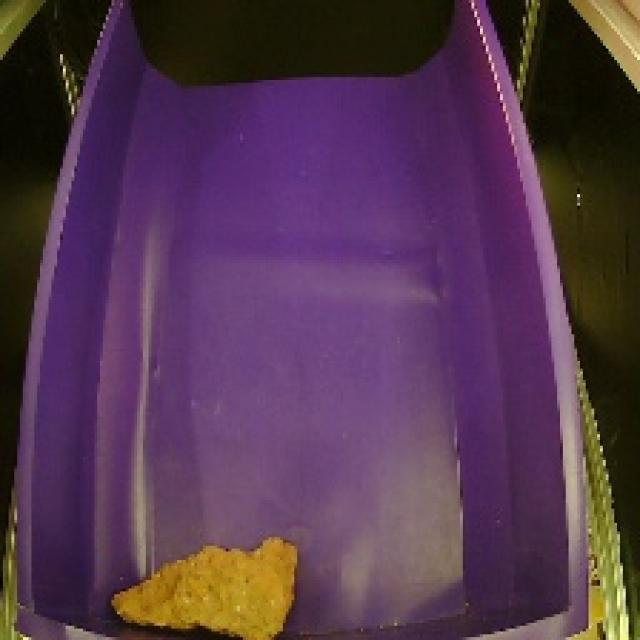brick: (98, 517, 307, 640)
